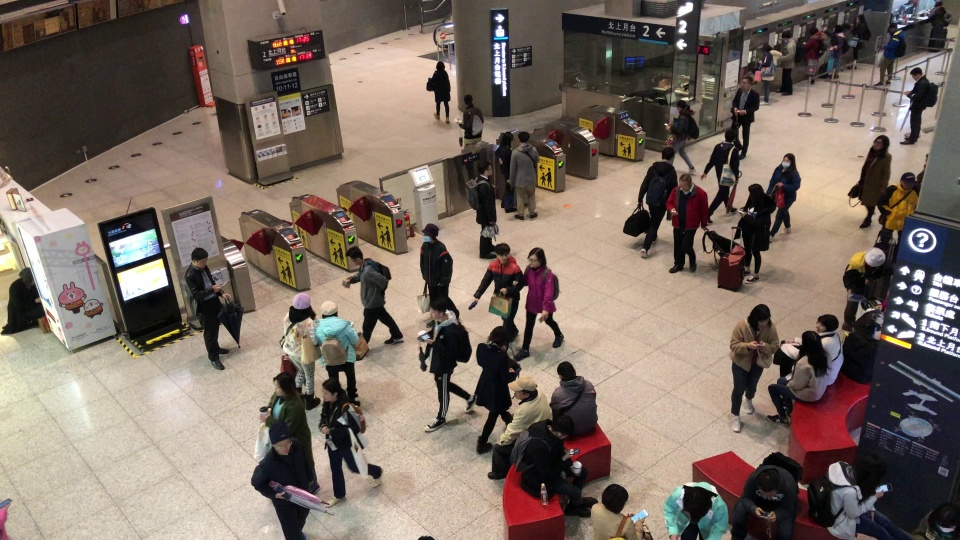person_head: (856, 451, 887, 486), (601, 483, 629, 514), (268, 422, 291, 456), (755, 469, 778, 500), (685, 490, 712, 514), (550, 415, 575, 439), (272, 372, 296, 396), (513, 375, 536, 400), (750, 303, 771, 330), (801, 330, 822, 354), (938, 507, 957, 533), (292, 292, 314, 314), (322, 378, 341, 402), (865, 248, 886, 269), (428, 298, 447, 321), (189, 247, 209, 268), (488, 325, 508, 346), (815, 314, 838, 332), (527, 247, 547, 267), (344, 245, 363, 266), (557, 361, 577, 380), (494, 242, 511, 263), (320, 300, 339, 318), (422, 223, 439, 243), (900, 171, 916, 190), (748, 183, 764, 201), (19, 267, 34, 285), (678, 173, 692, 192), (872, 134, 889, 149), (781, 152, 796, 169), (477, 161, 492, 176), (661, 146, 675, 162), (499, 132, 514, 146), (909, 67, 924, 80), (724, 128, 736, 143), (517, 132, 531, 144), (676, 99, 689, 111), (741, 76, 753, 89), (761, 43, 773, 54), (463, 93, 473, 105), (435, 60, 445, 71), (781, 30, 791, 41), (856, 13, 866, 23), (888, 22, 898, 32), (808, 26, 819, 35), (833, 24, 843, 33), (934, 0, 943, 7)
person_vbox: (509, 415, 599, 519), (806, 451, 911, 540), (316, 378, 383, 508), (250, 421, 315, 540), (258, 371, 320, 495), (421, 297, 477, 433), (486, 376, 552, 480), (180, 247, 232, 372), (731, 451, 803, 540), (766, 330, 832, 427), (729, 304, 779, 432), (341, 245, 403, 345), (512, 247, 564, 360), (278, 292, 323, 412), (313, 300, 363, 407), (473, 325, 514, 454), (472, 243, 525, 341), (779, 313, 844, 387), (731, 183, 777, 285), (637, 146, 678, 259), (664, 173, 709, 274), (419, 224, 460, 328), (839, 247, 886, 332), (662, 480, 728, 540), (700, 129, 740, 226), (549, 361, 598, 438), (590, 484, 652, 540), (464, 160, 498, 260), (857, 134, 892, 230), (876, 171, 919, 245), (766, 152, 801, 241), (898, 67, 938, 144), (0, 267, 44, 335), (509, 131, 540, 222), (664, 99, 700, 175), (729, 76, 760, 159), (872, 21, 906, 86), (775, 29, 806, 96), (911, 501, 959, 540), (494, 132, 517, 213), (425, 60, 451, 125), (454, 92, 484, 148), (757, 43, 783, 106), (802, 26, 828, 87), (846, 13, 871, 69), (823, 24, 848, 78), (926, 1, 951, 27)
